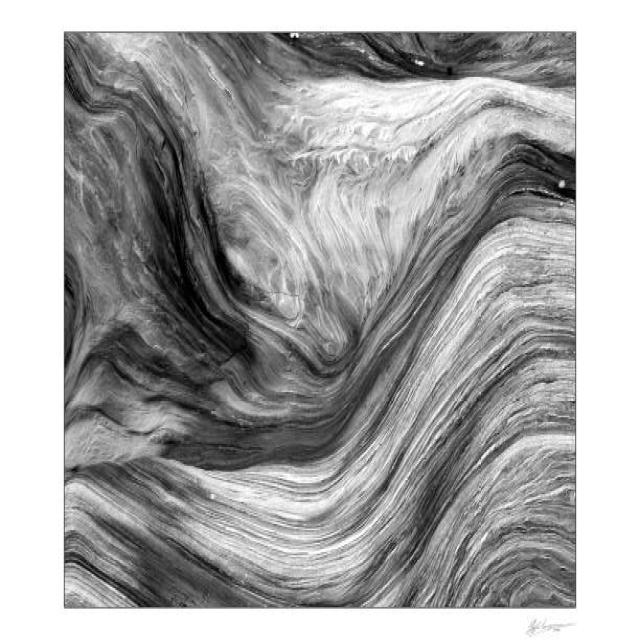Sedimentary: (65, 31, 576, 609)
